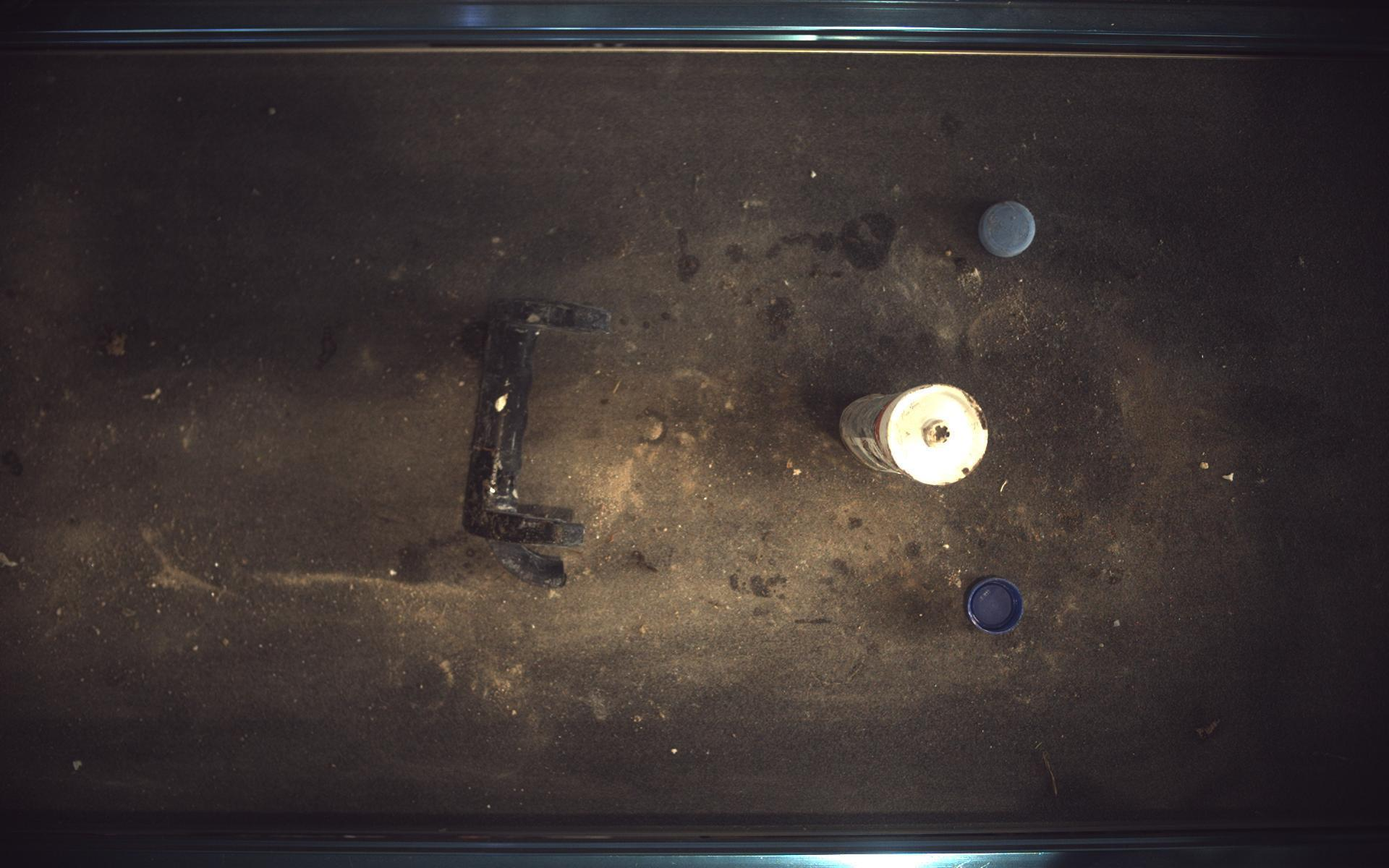general_w: (463, 298, 612, 588), (967, 578, 1026, 636), (980, 200, 1038, 257)
plastic: (841, 384, 990, 486)
